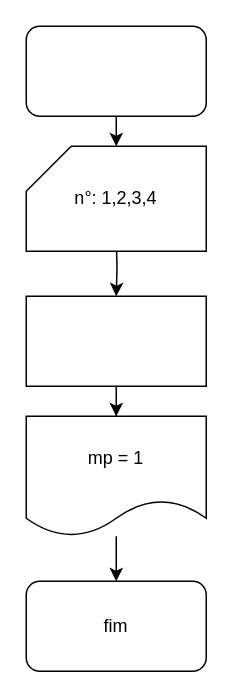
This 233x698 diagram has some shape labels left out. The centre of each missing label's shape, as x and y in pixels:
inicio: point (115, 70)
mp: (1 + 2 + 3 +4)/10: point (115, 340)
